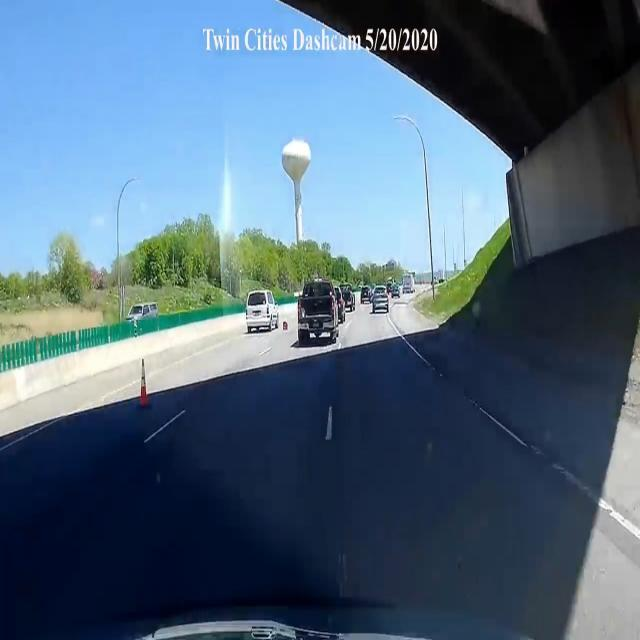cone: (134, 346, 153, 411)
